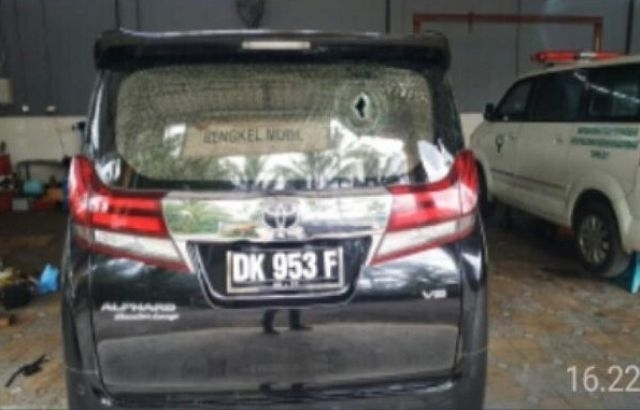plate: (228, 249, 343, 289)
